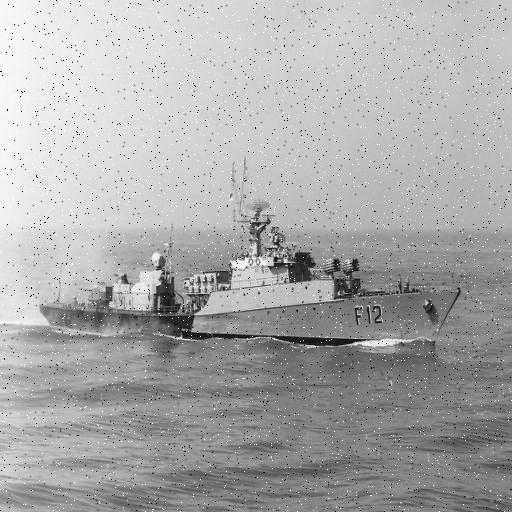Fragata: (37, 155, 462, 354)
